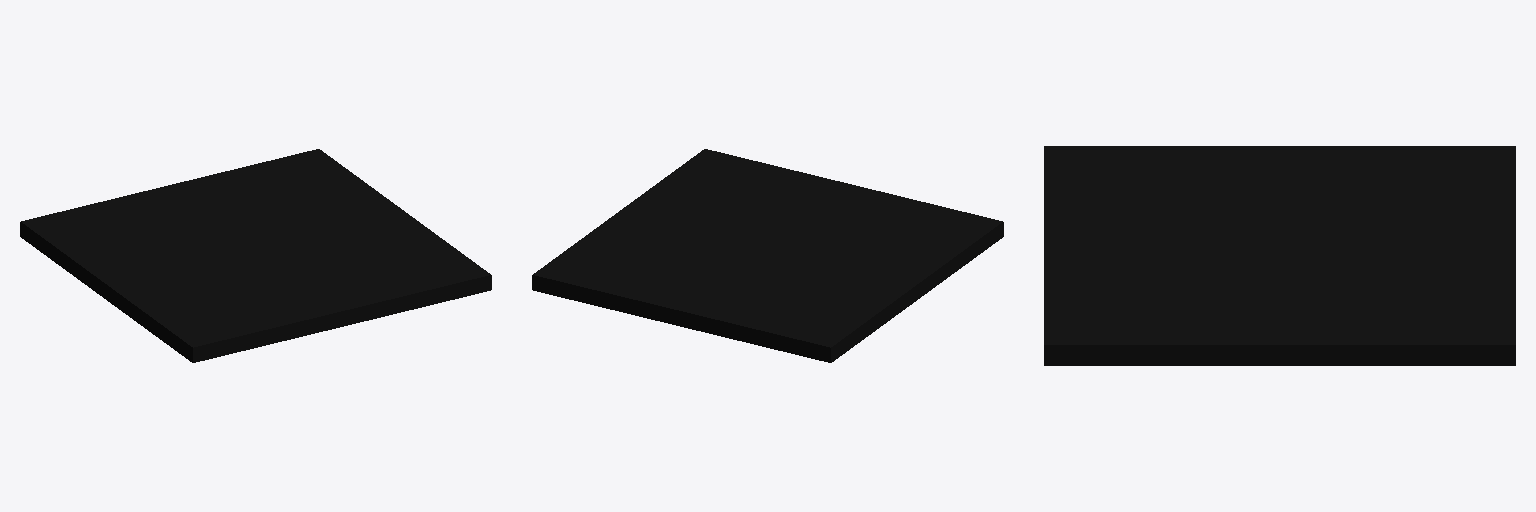
The robot description file, URDF, robot "Plane_Black":
<?xml version="1.0"?>
<robot name="Plane_Black">
  <link name="planeLink">
    <contact>
      <lateral_friction value="1"/>
    </contact>
    
    <inertial>
      <origin rpy="0 0 0" xyz="0 0 0"/>
       <mass value=".0"/>
       <inertia ixx="0" ixy="0" ixz="0" iyy="0" iyz="0" izz="0"/>
    </inertial>

    <visual>
      <origin rpy="0 0 0" xyz="0 0 0"/>
      <geometry>
			<box size="200 200 10"/>
      </geometry>
       <material name="white">
        <color rgba="0.1 0.1 0.1 0.8"/>
      </material>
    </visual>
    
    <collision>
      <origin rpy="0 0 0" xyz="0 0 -5"/>
      <geometry>
	 	<box size="200 200 10"/>
      </geometry>
    </collision>

  </link>
</robot>

--- Render facts (derived) ---
3 views of the same robot in one strip: view 1: azimuth 30°, elevation 25°; view 2: azimuth 150°, elevation 25°; view 3: azimuth 270°, elevation 25° (orthographic).
Robot: Plane_Black — 1 links, 0 joints (none); root link planeLink; default pose: every joint at zero.
Visible links, largest first — view 1: planeLink; view 2: planeLink; view 3: planeLink.
Boxes of the visible links, x1,y1,x2,y2 form: planeLink: (20,149,491,362); planeLink: (532,149,1003,362); planeLink: (1044,146,1515,365).
Size in the robot's own frame: 200 by 200 by 10 metres.
Geometry: primitives only (box / cylinder / sphere), no mesh files.